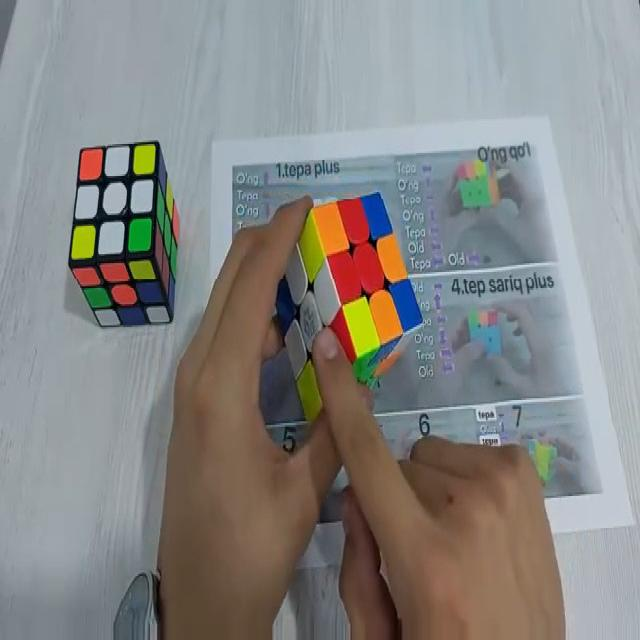Rub: (272, 188, 425, 425), (71, 139, 179, 331)
